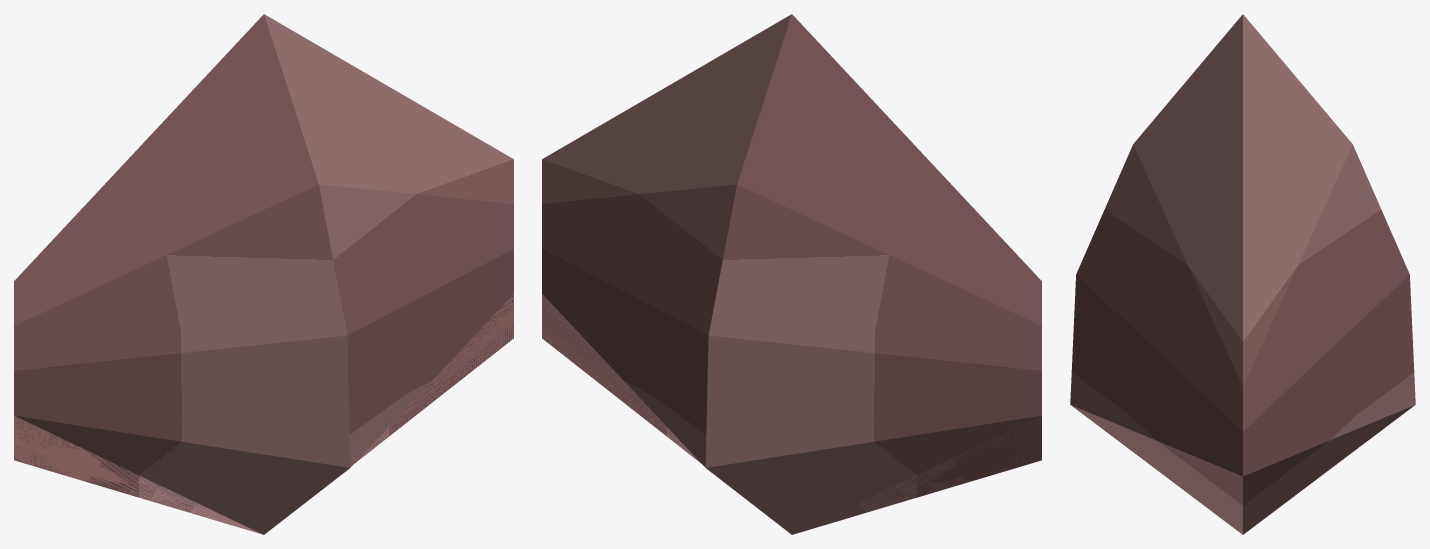
File: Stage1Rock.fbx
The picture shows the model from 3 angles, left to right: view 1: azimuth 30°, elevation 25°; view 2: azimuth 150°, elevation 25°; view 3: azimuth 270°, elevation 25°; orthographic projection.
Parts seen in each view (by area): view 1: Cube; view 2: Cube; view 3: Cube.
Boxes of the visible parts, bbox=[...] form: Cube: bbox=[14, 14, 513, 534]; Cube: bbox=[542, 14, 1041, 534]; Cube: bbox=[1070, 14, 1415, 534].
Bounding box in the file's own units: 200 × 199 × 120.
Materials: 1 (1 with a texture image).
